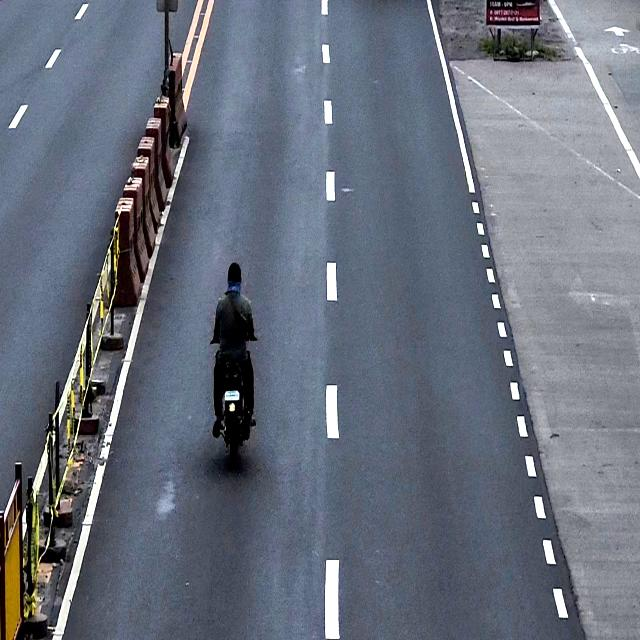License-Plate: (224, 388, 241, 401)
Motorcycle: (209, 325, 259, 458)
